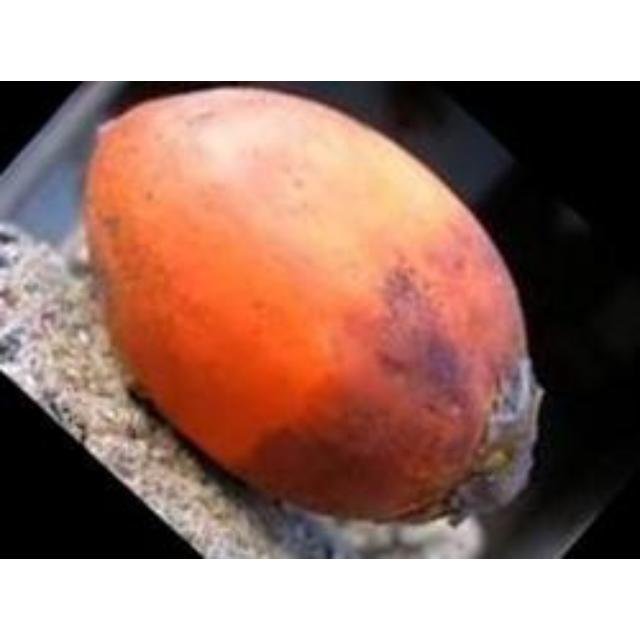good: (82, 89, 545, 557)
